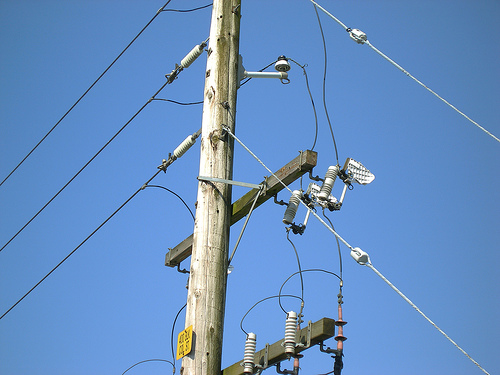pole: (174, 1, 321, 374)
